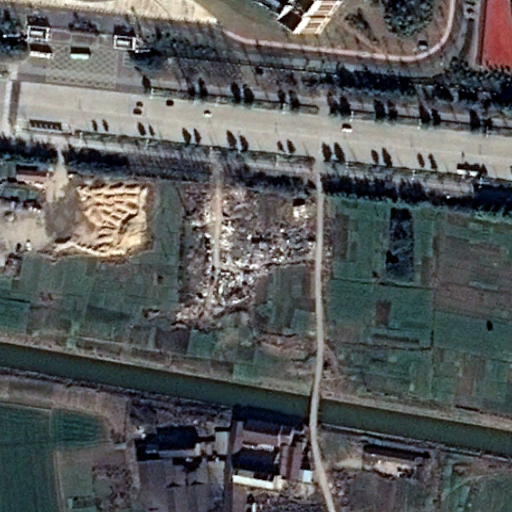msw: (180, 190, 315, 323)
